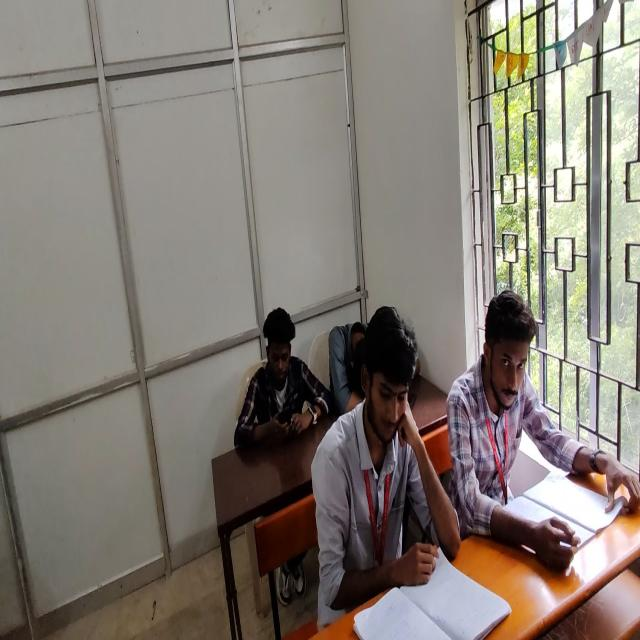listening: (448, 290, 640, 567)
reading: (317, 304, 455, 629)
sleeping: (329, 318, 412, 418)
using_mobile: (233, 305, 332, 447)
